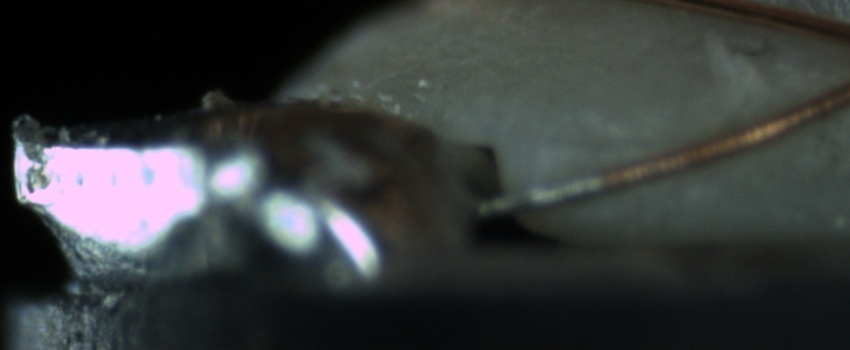DL: (531, 110, 674, 171)
TS: (473, 172, 602, 219)
